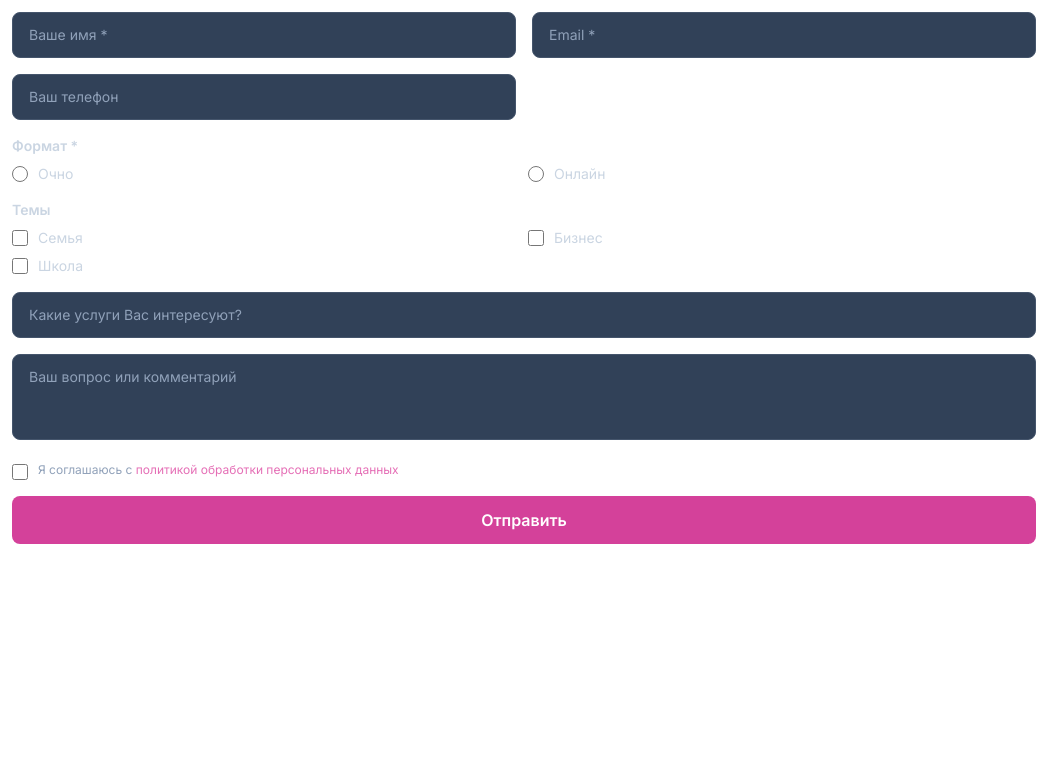
SiteForm › marks every problem next to its field and sends nothing
Type "12" into the field labelled "Ваш телефон" at (264, 97), box [12, 74, 516, 120]
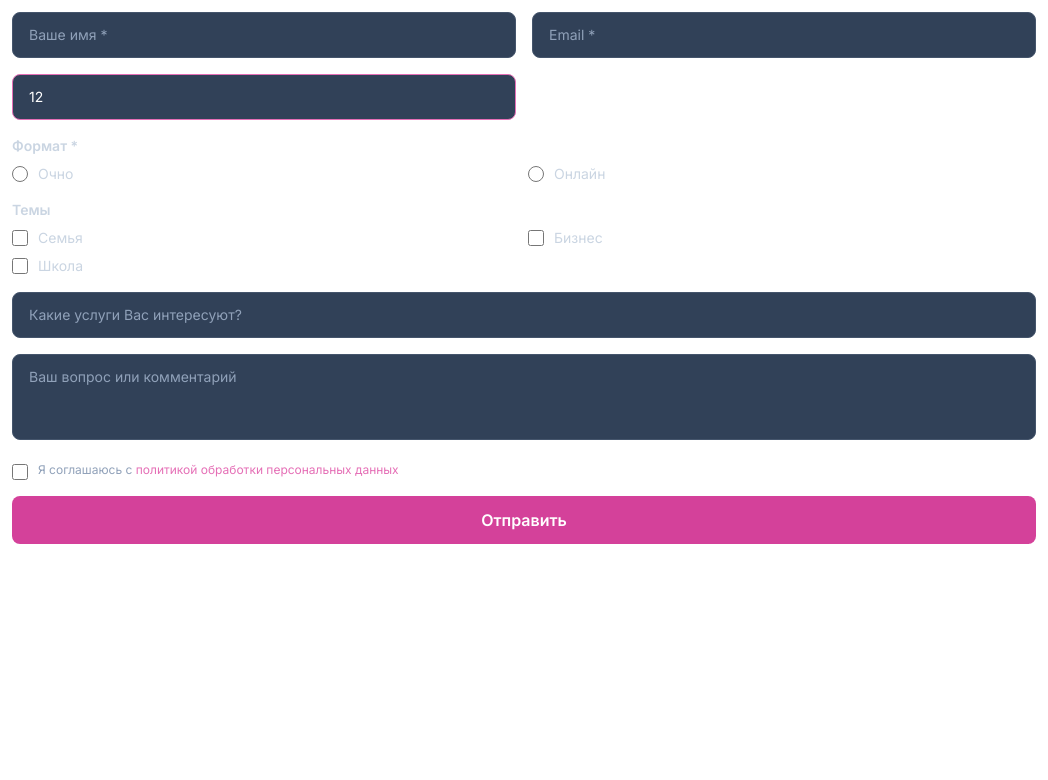
Click the button "Отправить" at (524, 520), box [12, 496, 1036, 544]
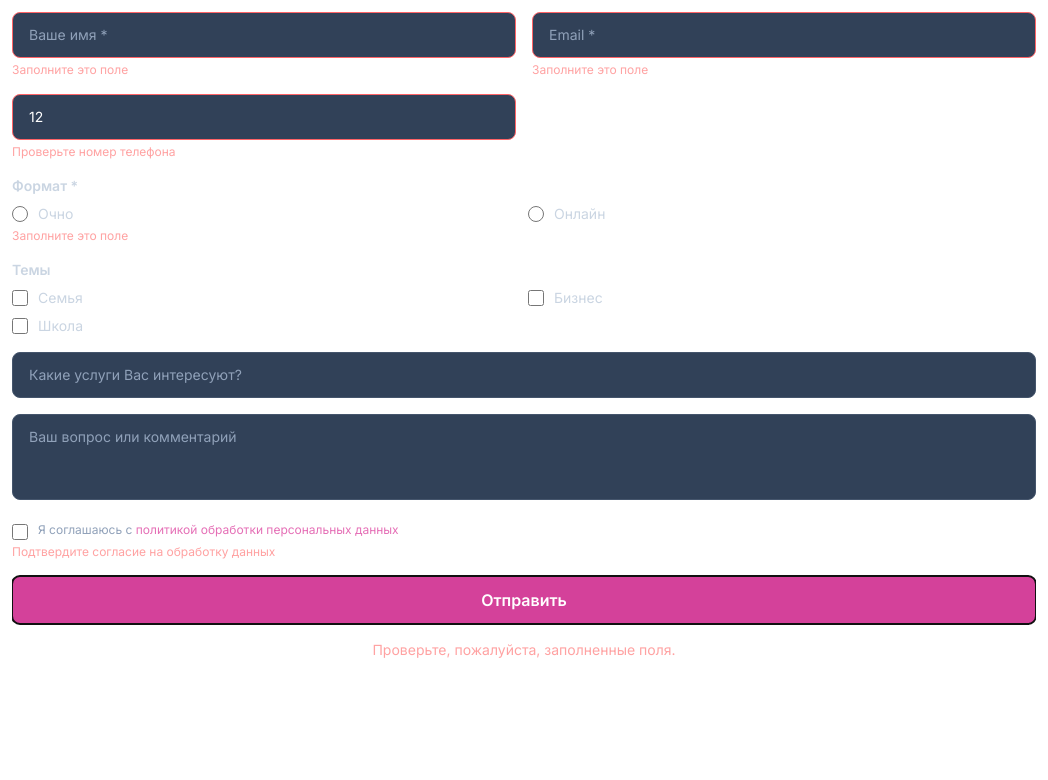
Expected: the text "Заполните это поле" is shown 3 times, [12, 62, 128, 77]; [532, 62, 648, 77]; [12, 228, 128, 243]
Expected: the text "Проверьте номер телефона" is shown, [12, 144, 176, 159]
Expected: the text "Подтвердите согласие на обработку данных" is shown, [12, 544, 275, 559]
